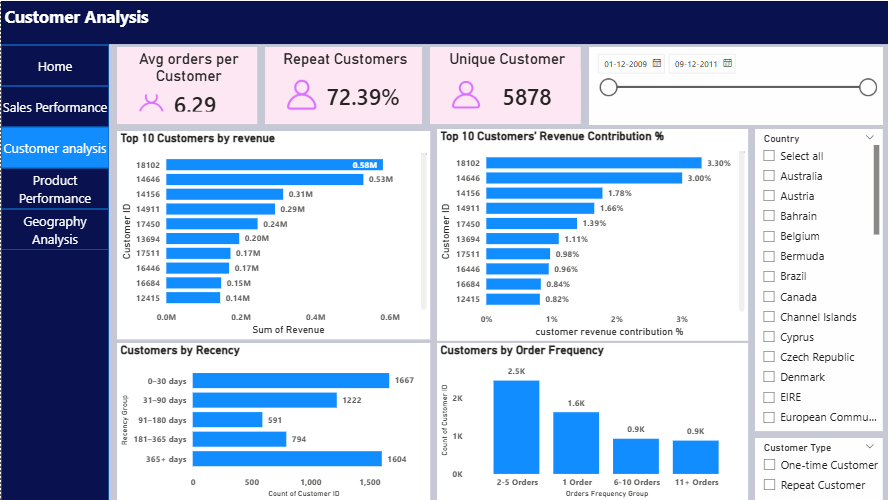

Layout of this report page (visuals, bound fields, positions):
{"tool":"powerbi","page":{"name":"Customer analysis","canvas":[1280,720],"ordinal":2},"visuals":[{"type":"textbox","box":[0,0,1280.2,61.9],"z":0},{"type":"cardVisual","title":"Unique Customer","fields":{"Data":["ecommerce_sales_cleaned.Unique Customers"]},"box":[617.8,66.2,217.4,110.9],"z":1000},{"type":"cardVisual","title":"Repeat Customers ","fields":{"Data":["ecommerce_sales_cleaned.Repeat customer %"]},"box":[380.2,66.2,226.1,110.9],"z":2000},{"type":"cardVisual","title":"Avg orders per Customer","fields":{"Data":["ecommerce_sales_cleaned.average orders per customer"]},"box":[167,66.2,201.6,110.9],"z":3000},{"type":"shape","box":[0,61.9,155.5,658.1],"z":4000},{"type":"clusteredBarChart","title":"Top 10 Customers by revenue","fields":{"Y":["Sum(ecommerce_sales_cleaned.Revenue)"],"Category":["ecommerce_sales_cleaned.Customer ID"]},"box":[167,187.2,450.7,299.5],"z":5000},{"type":"clusteredBarChart","title":"Customers by Recency","fields":{"Category":["Customer Summary.Recency Group"],"Y":["CountNonNull(Customer Summary.Customer ID)"]},"box":[167,492.5,450.7,227.5],"z":6000},{"type":"clusteredColumnChart","title":"Customers by Order Frequency ","fields":{"Category":["Customer Summary.Orders Frequency  Group"],"Y":["CountNonNull(Customer Summary.Customer ID)"]},"box":[627.8,492.5,447.8,227.5],"z":7000},{"type":"clusteredBarChart","title":"Top 10 Customers''  Revenue Contribution % ","fields":{"Category":["ecommerce_sales_cleaned.Customer ID"],"Y":["ecommerce_sales_cleaned.customer revenue contribution %"]},"box":[627.8,184.3,447.8,305.3],"z":8000},{"type":"slicer","title":"Data Range","fields":{"Values":["ecommerce_sales_cleaned.InvoiceDate"]},"box":[846.7,66.2,423.4,110.9],"z":9000},{"type":"slicer","fields":{"Values":["ecommerce_sales_cleaned.Country"]},"box":[1085.8,184.3,184.3,434.9],"z":10000},{"type":"slicer","fields":{"Values":["Customer Summary.Customer Type"]},"box":[1085.8,629.3,184.3,90.7],"z":11000},{"type":"shape","box":[0,63.4,155.5,59],"z":12000},{"type":"shape","box":[0,122.4,155.5,59],"z":13000},{"type":"shape","box":[0,181.4,155.5,59],"z":14000},{"type":"shape","box":[0,240.5,155.5,59],"z":15000},{"type":"shape","box":[0,299.5,155.5,59],"z":16000}]}

Visuals, with their boxes on the page's 1280x720 design canvas (x1, y1, x2, y2). These are canvas units, not pixel positions in the 888x500 screenshot, which may show the page scaled, cropped or inside an application window:
textbox: bbox(0, 0, 1280, 62)
"Unique Customer" cardVisual: bbox(618, 66, 835, 177)
"Repeat Customers " cardVisual: bbox(380, 66, 606, 177)
"Avg orders per Customer" cardVisual: bbox(167, 66, 369, 177)
shape: bbox(0, 62, 156, 720)
"Top 10 Customers by revenue" clusteredBarChart: bbox(167, 187, 618, 487)
"Customers by Recency" clusteredBarChart: bbox(167, 492, 618, 720)
"Customers by Order Frequency " clusteredColumnChart: bbox(628, 492, 1076, 720)
"Top 10 Customers''  Revenue Contribution % " clusteredBarChart: bbox(628, 184, 1076, 490)
"Data Range" slicer: bbox(847, 66, 1270, 177)
slicer - ecommerce_sales_cleaned.Country: bbox(1086, 184, 1270, 619)
slicer - Customer Summary.Customer Type: bbox(1086, 629, 1270, 720)
shape: bbox(0, 63, 156, 122)
shape: bbox(0, 122, 156, 181)
shape: bbox(0, 181, 156, 240)
shape: bbox(0, 240, 156, 300)
shape: bbox(0, 300, 156, 358)
